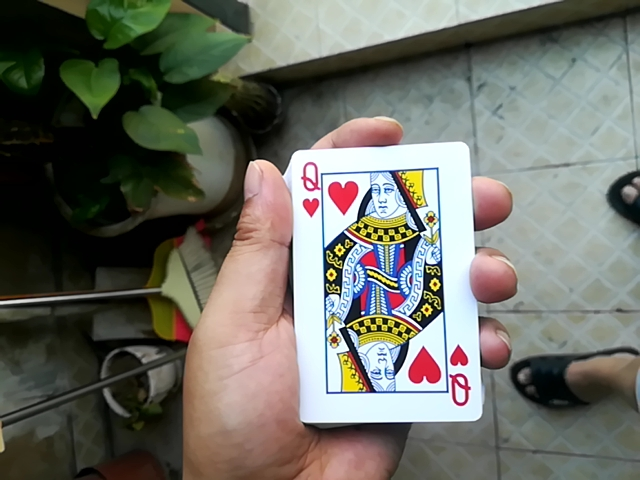hx q: (278, 138, 487, 432)
